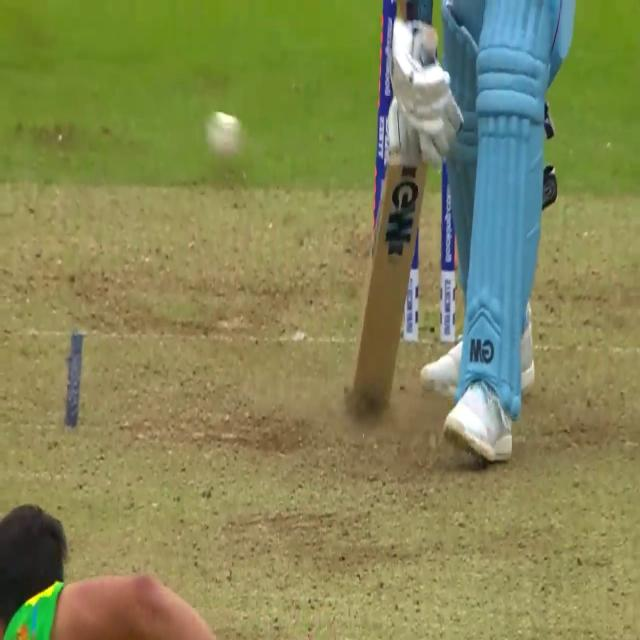ball: (206, 106, 238, 160)
